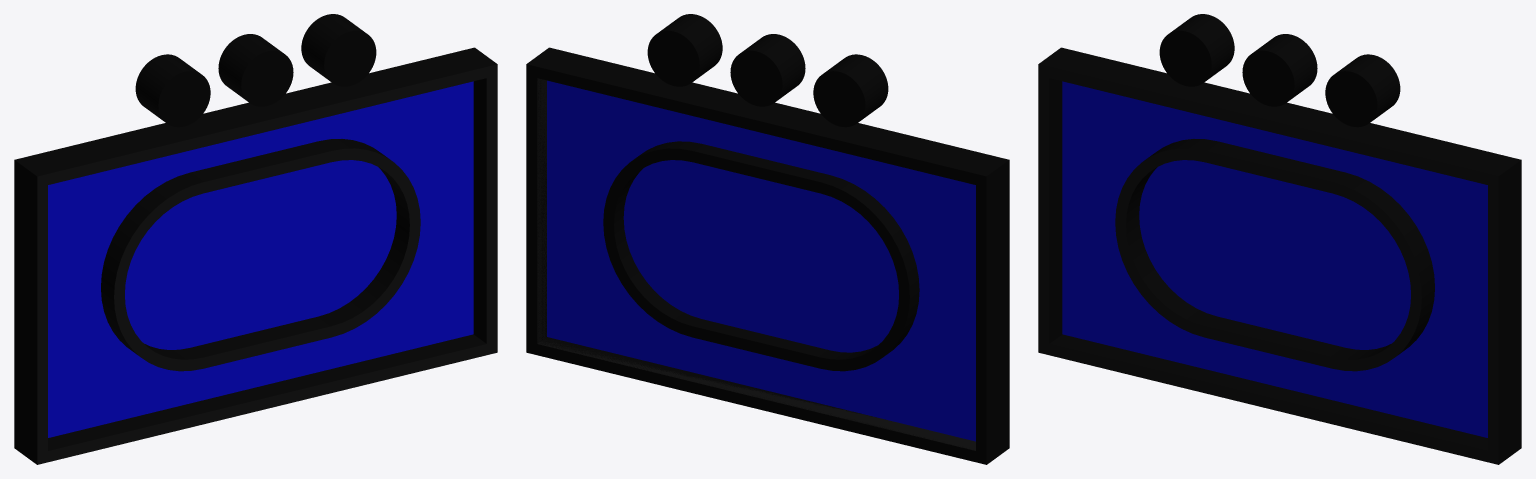
The model's file is ORBAT_-_6.obj.
The picture shows the model from 3 angles, left to right: view 1: azimuth 30°, elevation 25°; view 2: azimuth 150°, elevation 25°; view 3: azimuth 330°, elevation 25°; orthographic projection.
Visible parts, largest first — view 1: SM_ORBAT_-_6_path1763-2.252; view 2: SM_ORBAT_-_6_path1763-2.252; view 3: SM_ORBAT_-_6_path1763-2.252.
Boxes of the visible parts, x1,y1,x2,y2 form: SM_ORBAT_-_6_path1763-2.252: [14, 14, 497, 464]; SM_ORBAT_-_6_path1763-2.252: [526, 14, 1009, 464]; SM_ORBAT_-_6_path1763-2.252: [1038, 14, 1521, 464].
Size of the model in its own units: 1.21 by 0.8948 by 0.1034.
